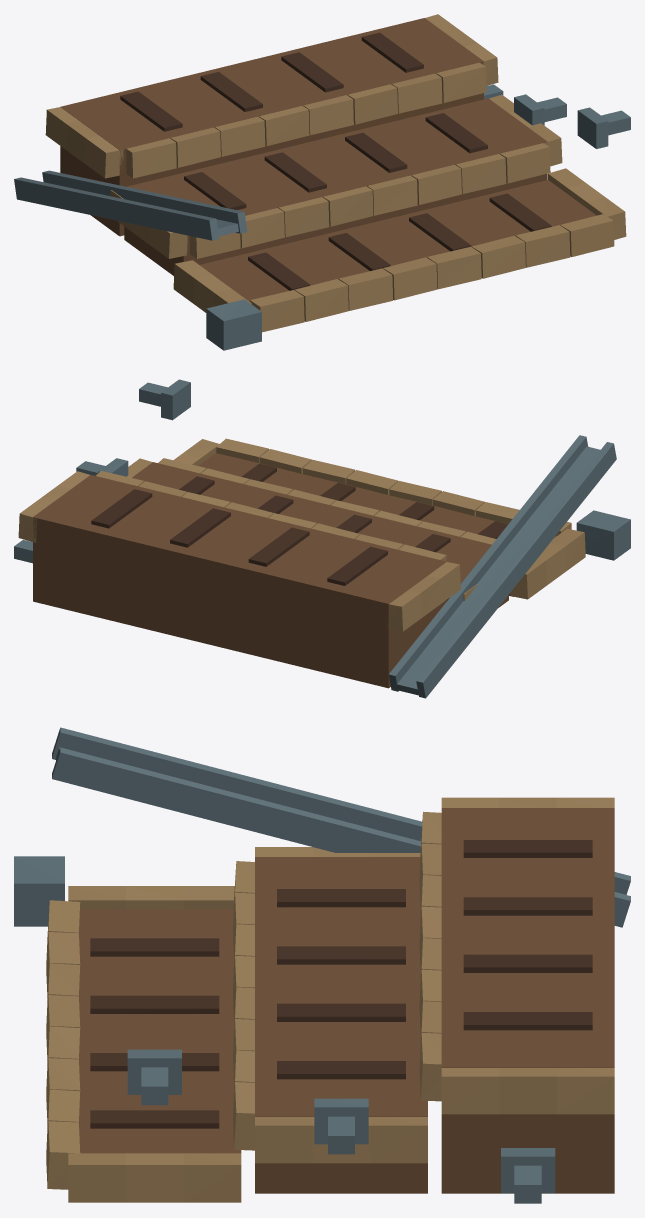
The model's file is terrace.source.glb.
The picture shows the model from 3 angles, top to bottom: view 1: azimuth 30°, elevation 25°; view 2: azimuth 150°, elevation 25°; view 3: azimuth 270°, elevation 25°; orthographic projection. The views are drawn at different scales.
Visible parts, largest first — view 1: terrace-rear-earth-platform-mesh, terrace-middle-earth-platform-mesh, terrace-front-earth-platform-mesh, terrace-drain-outer-rail-mesh, terrace-drain-inner-rail-mesh, terrace-drain-mouth-mesh, terrace-front-riser-stone-7-mesh, terrace-front-riser-stone-5-mesh, terrace-front-riser-stone-3-mesh, terrace-front-riser-stone-6-mesh, terrace-front-riser-stone-8-mesh, terrace-front-riser-stone-4-mesh (+45 smaller); view 2: terrace-rear-earth-platform-mesh, terrace-middle-earth-platform-mesh, terrace-drain-outer-rail-mesh, terrace-drain-channel-bottom-mesh, terrace-drain-inner-rail-mesh, terrace-front-earth-platform-mesh, terrace-drain-mouth-mesh, terrace-rear-left-cheek-1-mesh, terrace-rear-furrow-4-mesh, terrace-rear-furrow-2-mesh, terrace-rear-furrow-3-mesh, terrace-rear-furrow-1-mesh (+16 smaller); view 3: terrace-rear-earth-platform-mesh, terrace-middle-earth-platform-mesh, terrace-front-earth-platform-mesh, terrace-drain-inner-rail-mesh, terrace-drain-outer-rail-mesh, terrace-drain-mouth-mesh, terrace-front-right-cheek-1-mesh, terrace-front-right-cheek-2-mesh, terrace-front-right-cheek-3-mesh, terrace-rear-right-cheek-3-mesh, terrace-middle-right-cheek-1-mesh, terrace-middle-right-cheek-3-mesh (+48 smaller).
Boxes of the visible parts, x1=… form: terrace-rear-earth-platform-mesh: x1=60, y1=18, x2=483, y2=236; terrace-middle-earth-platform-mesh: x1=124, y1=98, x2=547, y2=275; terrace-front-earth-platform-mesh: x1=200, y1=180, x2=596, y2=301; terrace-drain-outer-rail-mesh: x1=14, y1=177, x2=219, y2=240; terrace-drain-inner-rail-mesh: x1=42, y1=170, x2=247, y2=233; terrace-drain-mouth-mesh: x1=206, y1=299, x2=261, y2=350; terrace-front-riser-stone-7-mesh: x1=515, y1=225, x2=570, y2=267; terrace-front-riser-stone-5-mesh: x1=427, y1=246, x2=481, y2=289; terrace-front-riser-stone-3-mesh: x1=338, y1=268, x2=393, y2=310; terrace-front-riser-stone-6-mesh: x1=471, y1=235, x2=525, y2=278; terrace-front-riser-stone-8-mesh: x1=560, y1=214, x2=614, y2=256; terrace-front-riser-stone-4-mesh: x1=383, y1=257, x2=437, y2=300; terrace-rear-earth-platform-mesh: x1=33, y1=475, x2=446, y2=688; terrace-middle-earth-platform-mesh: x1=132, y1=462, x2=508, y2=607; terrace-drain-outer-rail-mesh: x1=416, y1=442, x2=616, y2=698; terrace-drain-channel-bottom-mesh: x1=395, y1=446, x2=600, y2=695; terrace-drain-inner-rail-mesh: x1=388, y1=435, x2=588, y2=691; terrace-front-earth-platform-mesh: x1=198, y1=453, x2=556, y2=596; terrace-drain-mouth-mesh: x1=576, y1=510, x2=630, y2=560; terrace-rear-left-cheek-1-mesh: x1=386, y1=590, x2=422, y2=631; terrace-rear-furrow-4-mesh: x1=91, y1=489, x2=152, y2=528; terrace-rear-furrow-2-mesh: x1=248, y1=527, x2=309, y2=566; terrace-rear-furrow-3-mesh: x1=170, y1=508, x2=230, y2=547; terrace-rear-furrow-1-mesh: x1=327, y1=546, x2=387, y2=585; terrace-rear-earth-platform-mesh: x1=441, y1=808, x2=614, y2=1193; terrace-middle-earth-platform-mesh: x1=255, y1=857, x2=427, y2=1193; terrace-front-earth-platform-mesh: x1=79, y1=909, x2=241, y2=1153; terrace-drain-inner-rail-mesh: x1=52, y1=747, x2=630, y2=927; terrace-drain-outer-rail-mesh: x1=52, y1=727, x2=630, y2=894; terrace-drain-mouth-mesh: x1=14, y1=856, x2=64, y2=926; terrace-front-right-cheek-1-mesh: x1=183, y1=1153, x2=241, y2=1202; terrace-front-right-cheek-2-mesh: x1=126, y1=1153, x2=183, y2=1202; terrace-front-right-cheek-3-mesh: x1=68, y1=1153, x2=125, y2=1202; terrace-rear-right-cheek-3-mesh: x1=441, y1=1068, x2=499, y2=1114; terrace-middle-right-cheek-1-mesh: x1=370, y1=1117, x2=427, y2=1163; terrace-middle-right-cheek-3-mesh: x1=255, y1=1117, x2=312, y2=1163.
Size of the model in its own units: 4.48 by 1.16 by 3.64.
